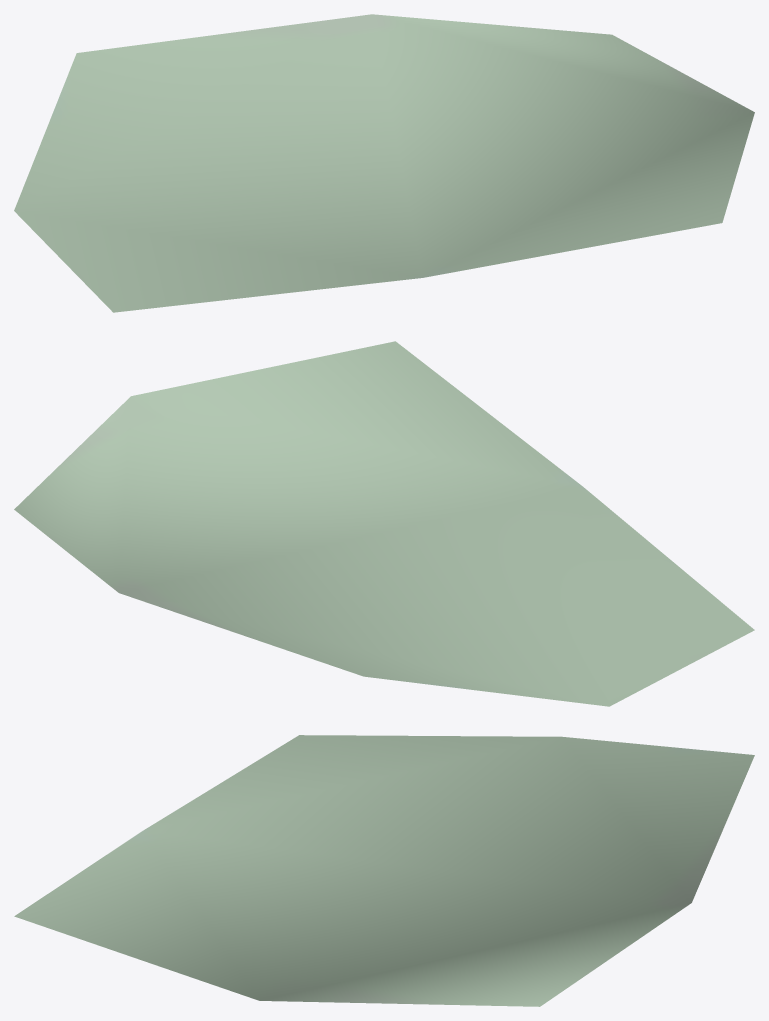
File: TROLLHOLE02_HOLECAP177.fbx
The picture shows the model from 3 angles, top to bottom: view 1: azimuth 30°, elevation 25°; view 2: azimuth 150°, elevation 25°; view 3: azimuth 270°, elevation 25°; orthographic projection. The views are drawn at different scales.
Visible parts, largest first — view 1: TROLLHOLE02_HOLECAP177; view 2: TROLLHOLE02_HOLECAP177; view 3: TROLLHOLE02_HOLECAP177.
Boxes of the visible parts, x1,y1,x2,y2 form: TROLLHOLE02_HOLECAP177: (14, 14, 754, 312); TROLLHOLE02_HOLECAP177: (14, 341, 754, 706); TROLLHOLE02_HOLECAP177: (14, 735, 754, 1006).
Bounding box in the file's own units: 35435 × 3700 × 33306.
1 material, 1 textured.
